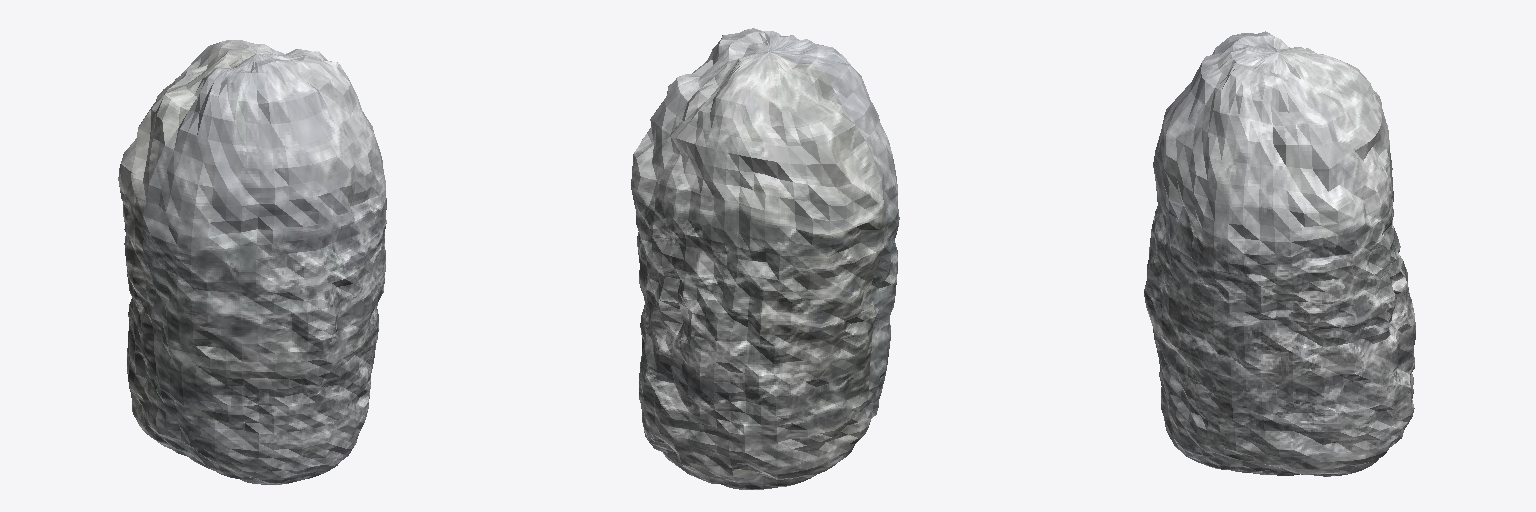
3 renders of one model, left to right at view 1: azimuth 30°, elevation 25°; view 2: azimuth 150°, elevation 25°; view 3: azimuth 270°, elevation 25°, orthographic.
Visible parts, largest first — view 1: Sphere_Sphere.001; view 2: Sphere_Sphere.001; view 3: Sphere_Sphere.001.
Part boxes in pixels (x1,y1,x2,y2): Sphere_Sphere.001: (118,40,386,484); Sphere_Sphere.001: (631,28,899,489); Sphere_Sphere.001: (1144,31,1415,476).
Size of the model in its own units: 1.56 by 2.66 by 1.59.
1 materials, 1 textured.